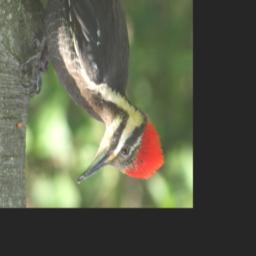Woodpecker: (22, 0, 164, 185)
